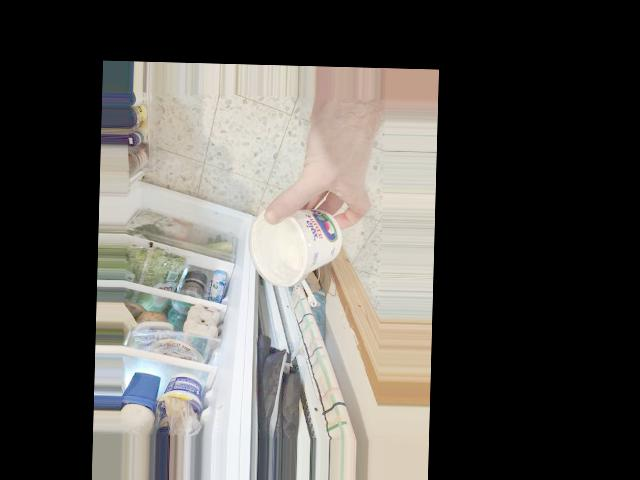cotage: (250, 204, 342, 281)
